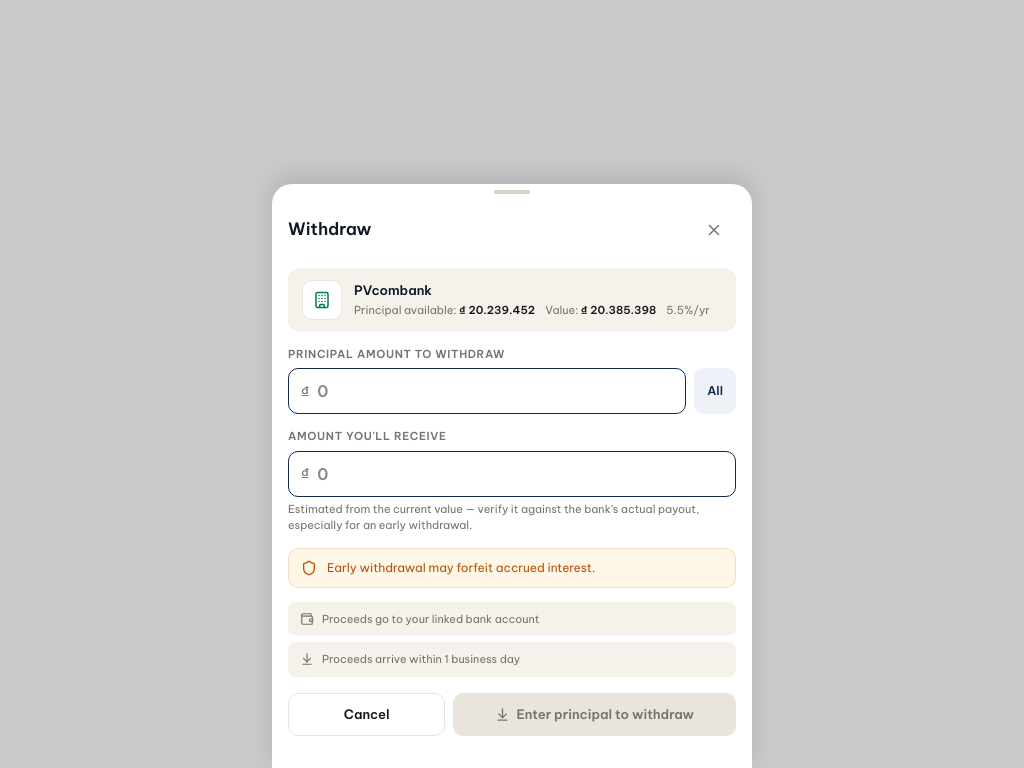
SellWithdrawSheet — partial bank withdrawal where value != principal (#578) › fills the remaining principal — and the full current value — from "All"
Click the button with test id "sell-all-btn" at (715, 391), box x1=694 y1=368 x2=736 y2=414
(page scrolled)
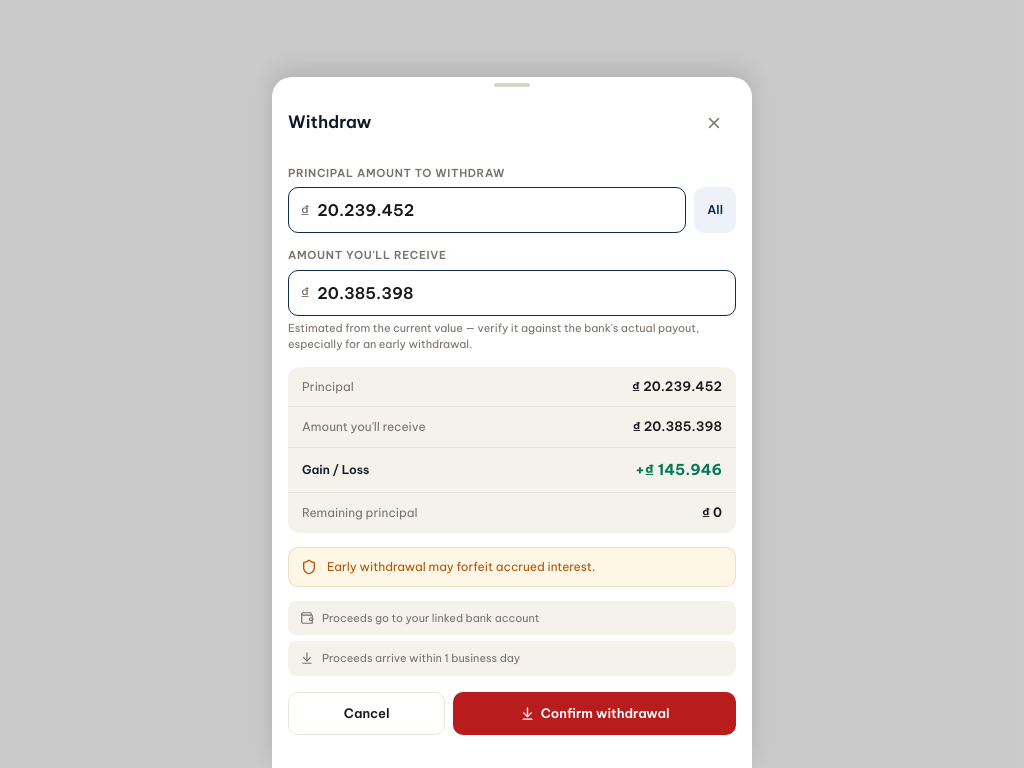
Now the button with test id "sell-confirm-btn" is enabled, box x1=453 y1=692 x2=736 y2=735
